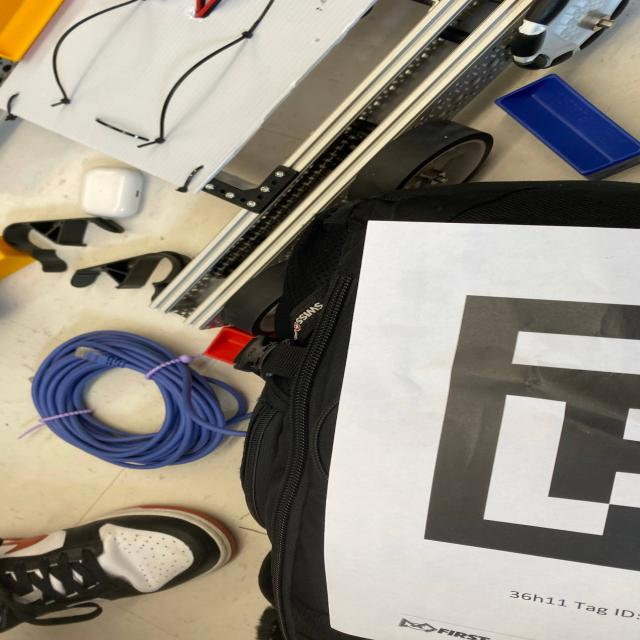blue-specimen: (495, 74, 640, 179)
red-specimen: (203, 327, 253, 364)
yellow-specimen: (0, 235, 34, 280)
